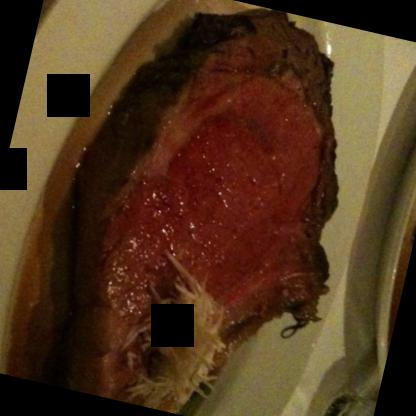beef: (29, 0, 391, 415)
